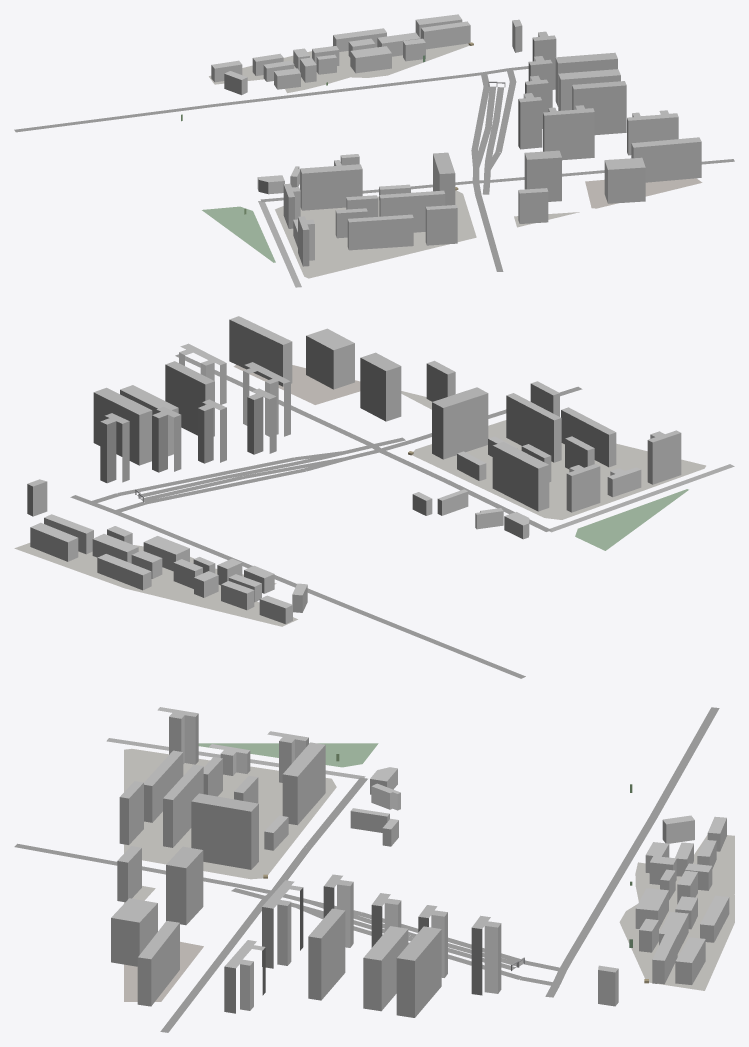
The picture shows the model from 3 angles, top to bottom: view 1: azimuth 30°, elevation 25°; view 2: azimuth 150°, elevation 25°; view 3: azimuth 270°, elevation 25°; orthographic projection. The views are drawn at different scales.
Bounding box in the file's own units: 632 × 60.66 × 590.
